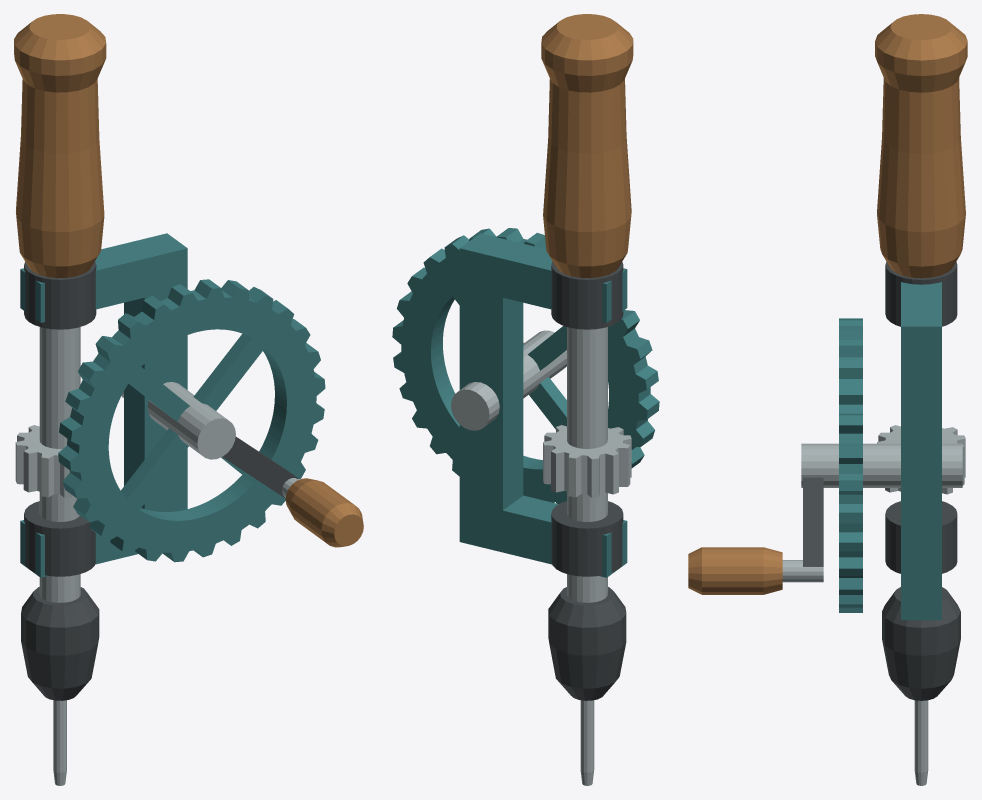
The picture shows the model from 3 angles, left to right: view 1: azimuth 30°, elevation 25°; view 2: azimuth 150°, elevation 25°; view 3: azimuth 270°, elevation 25°; orthographic projection.
Parts seen in each view (by area): view 1: WholeOpenToothedDriveWheel, WholeLongUpperHandgrip, WholeOpenSideBearingFrame, WholeTaperedLowerChuck, WholeStraightSpindle, WholeBoredSpindleCollarLower, WholeShortCrankHandgrip, WholeBoredSpindleCollarUpper, WholeTransverseWheelAxle, WholeSmallSpindleToothRing, WholeDriveWheelSpoke0, WholeDriveWheelSpoke2 (+3 smaller); view 2: WholeOpenSideBearingFrame, WholeLongUpperHandgrip, WholeOpenToothedDriveWheel, WholeTaperedLowerChuck, WholeStraightSpindle, WholeSmallSpindleToothRing, WholeBoredSpindleCollarLower, WholeBoredSpindleCollarUpper, WholeTransverseWheelAxle, WholeShortBluntBit, WholeDriveWheelSpoke2, WholeDriveWheelSpoke1; view 3: WholeLongUpperHandgrip, WholeOpenSideBearingFrame, WholeOpenToothedDriveWheel, WholeTaperedLowerChuck, WholeShortCrankHandgrip, WholeTransverseWheelAxle, WholeBoredSpindleCollarLower, WholeBoredSpindleCollarUpper, WholeForwardOffsetCrank, WholeShortBluntBit, WholeSmallSpindleToothRing, WholeCrankGripSpindle.
Boxes of the visible parts, box(x1,y1,x2,y2) form: WholeOpenToothedDriveWheel: box(58, 279, 325, 562); WholeLongUpperHandgrip: box(14, 14, 106, 277); WholeOpenSideBearingFrame: box(20, 233, 187, 577); WholeTaperedLowerChuck: box(21, 587, 99, 700); WholeStraightSpindle: box(39, 327, 80, 602); WholeBoredSpindleCollarLower: box(24, 501, 95, 576); WholeShortCrankHandgrip: box(285, 478, 363, 547); WholeBoredSpindleCollarUpper: box(24, 261, 96, 329); WholeTransverseWheelAxle: box(121, 382, 235, 459); WholeSmallSpindleToothRing: box(15, 425, 72, 497); WholeDriveWheelSpoke0: box(193, 333, 264, 410); WholeDriveWheelSpoke2: box(121, 428, 188, 509); WholeOpenSideBearingFrame: box(459, 233, 627, 577); WholeLongUpperHandgrip: box(541, 14, 633, 277); WholeOpenToothedDriveWheel: box(392, 228, 659, 503); WholeTaperedLowerChuck: box(548, 587, 626, 700); WholeStraightSpindle: box(567, 327, 607, 602); WholeSmallSpindleToothRing: box(543, 425, 631, 497); WholeBoredSpindleCollarLower: box(551, 501, 623, 576); WholeBoredSpindleCollarUpper: box(551, 261, 623, 329); WholeTransverseWheelAxle: box(451, 330, 566, 430); WholeShortBluntBit: box(580, 700, 594, 785); WholeDriveWheelSpoke2: box(529, 377, 566, 429); WholeDriveWheelSpoke1: box(528, 326, 566, 370); WholeLongUpperHandgrip: box(875, 14, 967, 278); WholeOpenSideBearingFrame: box(901, 282, 941, 620); WholeOpenToothedDriveWheel: box(839, 318, 862, 612); WholeTaperedLowerChuck: box(882, 587, 960, 700); WholeShortCrankHandgrip: box(688, 547, 782, 594); WholeTransverseWheelAxle: box(801, 443, 962, 487); WholeBoredSpindleCollarLower: box(885, 501, 957, 573); WholeBoredSpindleCollarUpper: box(885, 261, 957, 326); WholeForwardOffsetCrank: box(803, 477, 823, 566); WholeShortBluntBit: box(914, 700, 928, 785); WholeSmallSpindleToothRing: box(877, 425, 965, 494); WholeCrankGripSpindle: box(782, 560, 823, 582).
Size of the model in its own units: 0.1779 by 0.487 by 0.163.
